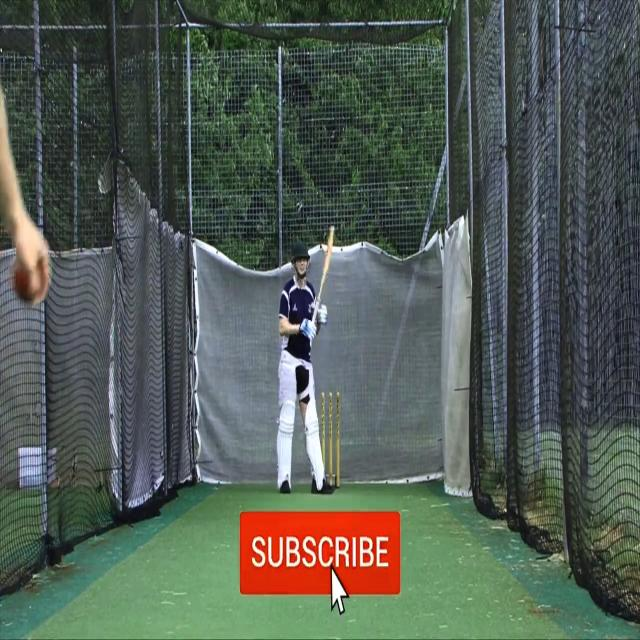batsman: (275, 222, 335, 497)
